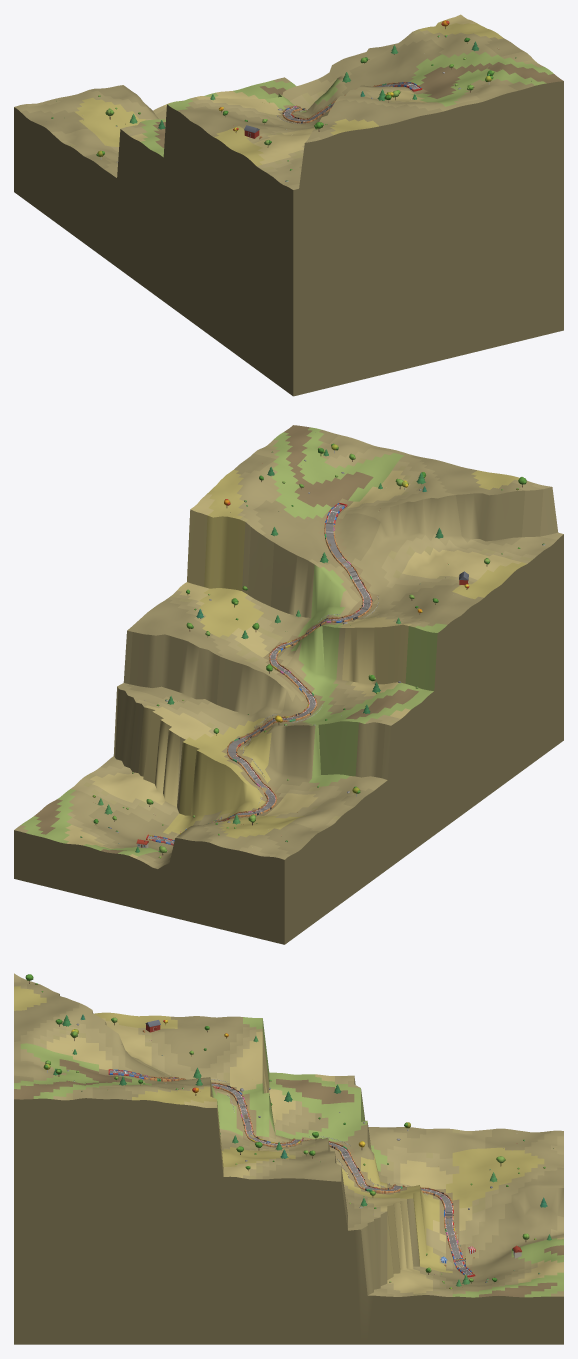
The picture shows the model from 3 angles, top to bottom: view 1: azimuth 30°, elevation 25°; view 2: azimuth 150°, elevation 25°; view 3: azimuth 270°, elevation 25°; orthographic projection.
Visible parts, largest first — view 1: grass, leafy trees, hay; view 2: grass, road, hay, leafy trees, pines; view 3: grass, road, hay, pines, leafy trees, buildings.
Part boxes in pixels (bbox=[...]): grass: bbox=[14, 14, 563, 396]; leafy trees: bbox=[96, 37, 494, 156]; hay: bbox=[282, 82, 422, 123]; grass: bbox=[14, 425, 563, 944]; road: bbox=[148, 504, 371, 843]; hay: bbox=[146, 502, 372, 845]; leafy trees: bbox=[93, 443, 526, 852]; pines: bbox=[97, 449, 443, 852]; grass: bbox=[14, 973, 563, 1344]; road: bbox=[109, 1070, 472, 1275]; hay: bbox=[108, 1069, 475, 1277]; pines: bbox=[53, 1014, 551, 1286]; leafy trees: bbox=[25, 974, 529, 1282]; buildings: bbox=[142, 1020, 521, 1267].
Bounding box in the file's own units: 235 × 216 × 420.
